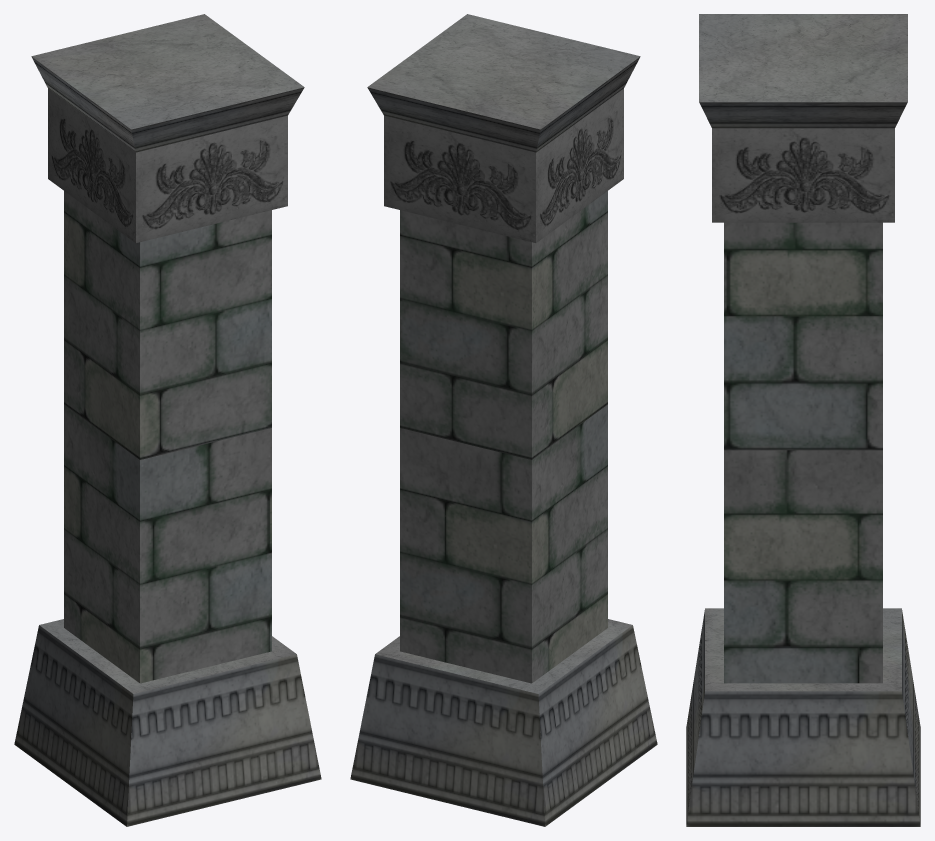
The model's file is pillar_02.glb.
3 views of the same model, side by side, from view 1: azimuth 30°, elevation 25°; view 2: azimuth 150°, elevation 25°; view 3: azimuth 270°, elevation 25° (orthographic). The views are drawn at different scales.
Parts seen in each view (by area): view 1: pillar_02; view 2: pillar_02; view 3: pillar_02.
Part boxes in pixels (x1=…): pillar_02: x1=14, y1=14, x2=321, y2=826; pillar_02: x1=350, y1=14, x2=657, y2=826; pillar_02: x1=686, y1=14, x2=920, y2=826.
Bounding box in the file's own units: 0.8863 × 3 × 0.8863.
Materials: 1 (1 with a texture image).
